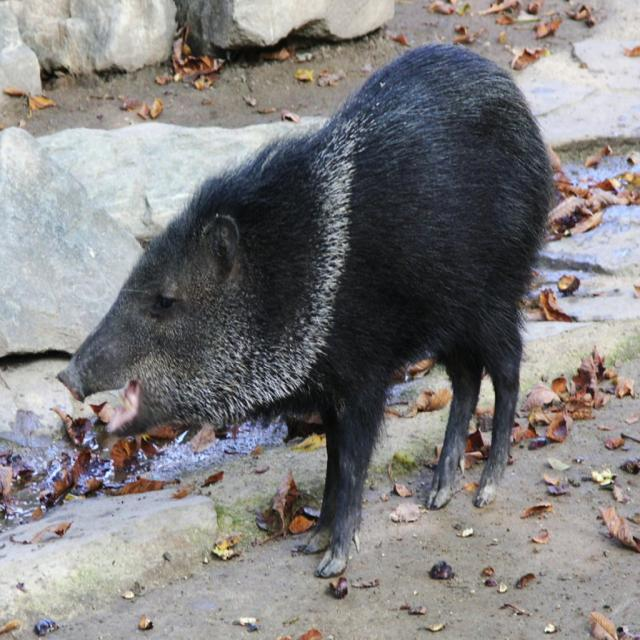Pig: (56, 42, 565, 576)
